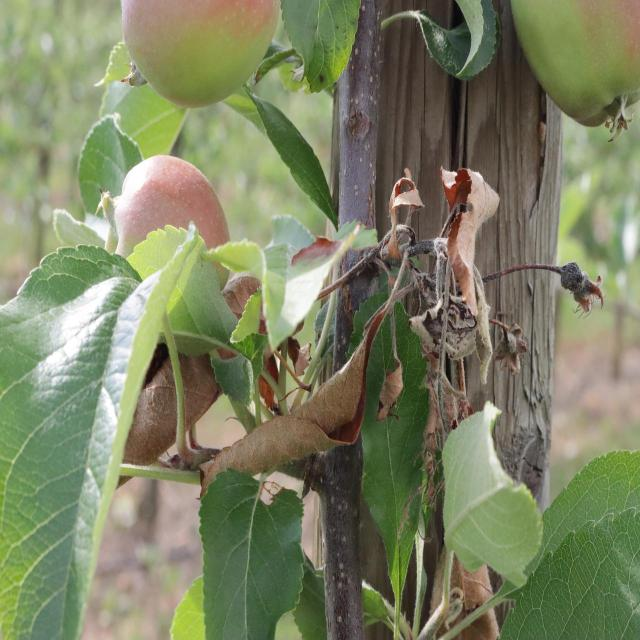-FireBlight-: (162, 167, 631, 638)
